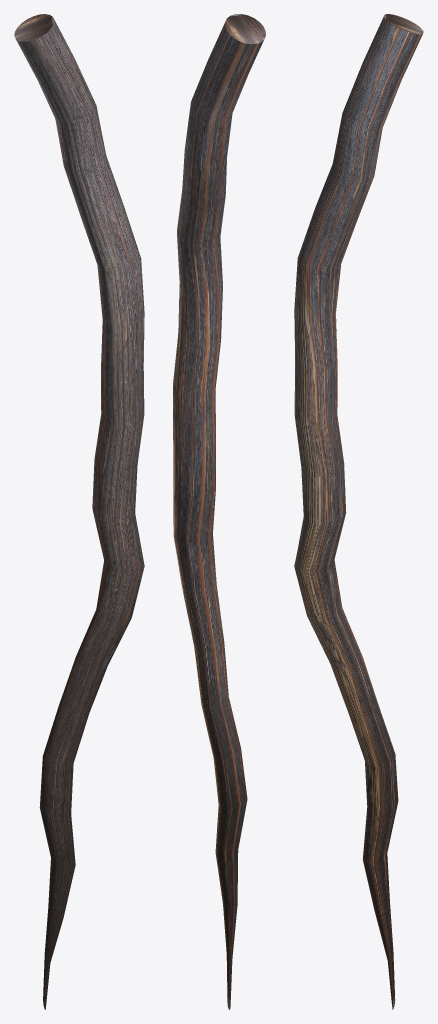
File: stem3.fbx
The picture shows the model from 3 angles, left to right: view 1: azimuth 90°, elevation 25°; view 2: azimuth 210°, elevation 25°; view 3: azimuth 270°, elevation 25°; orthographic projection.
Parts seen in each view (by area): view 1: pCylinder10; view 2: pCylinder10; view 3: pCylinder10.
Boxes of the visible parts, x1,y1,x2,y2 form: pCylinder10: (14,14,144,1009); pCylinder10: (173,14,265,1009); pCylinder10: (294,14,423,1009).
Bounding box in the file's own units: 0.5525 × 10.08 × 1.2.
1 material, 1 textured.
